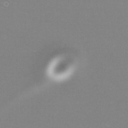normal: (1, 76, 50, 125)
